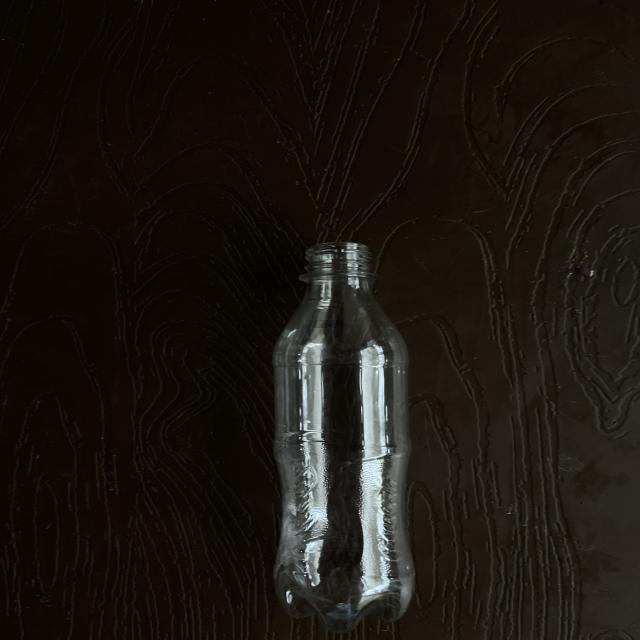PET_ClearBottle: (258, 234, 573, 628)
